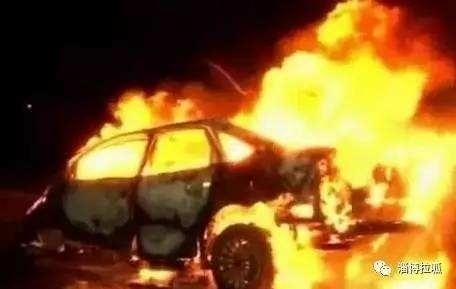fire: (218, 11, 453, 269), (67, 85, 209, 182)
